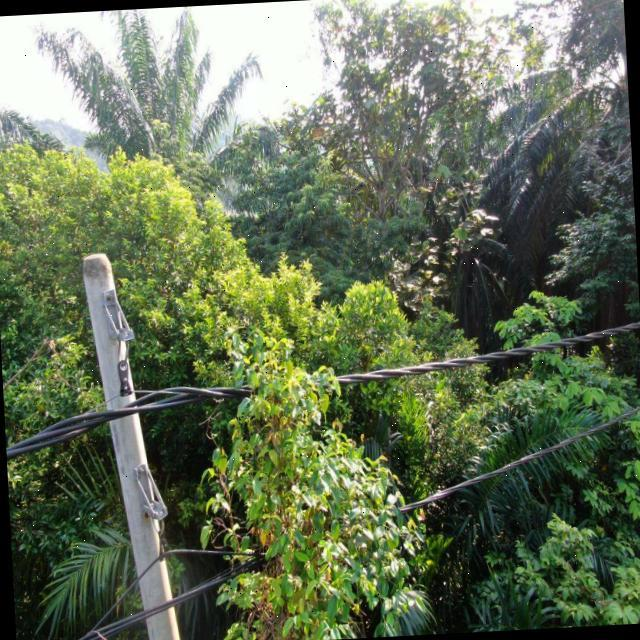critical vegetation: (209, 313, 432, 616)
